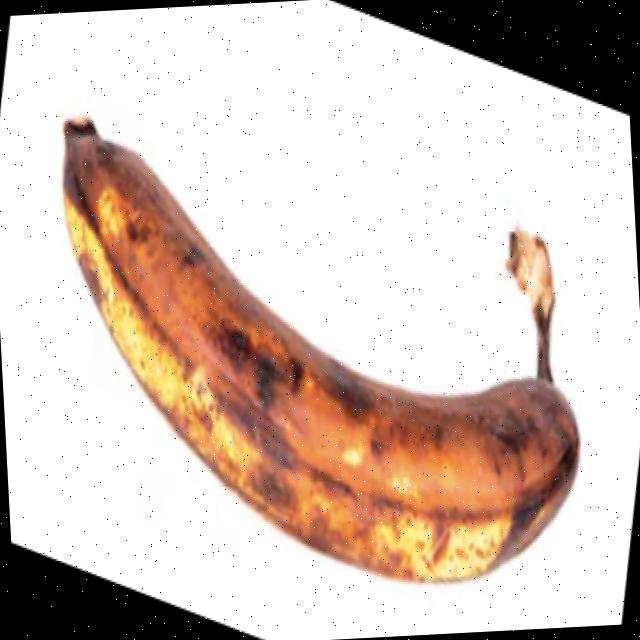rotten banana: (24, 72, 618, 632)
